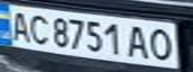1: (103, 20, 124, 56)
5: (81, 18, 106, 54)
7: (66, 16, 87, 51)
8: (48, 15, 69, 48)
A: (3, 8, 33, 43), (124, 22, 151, 60)
C: (24, 11, 51, 46)
O: (145, 26, 178, 62)
